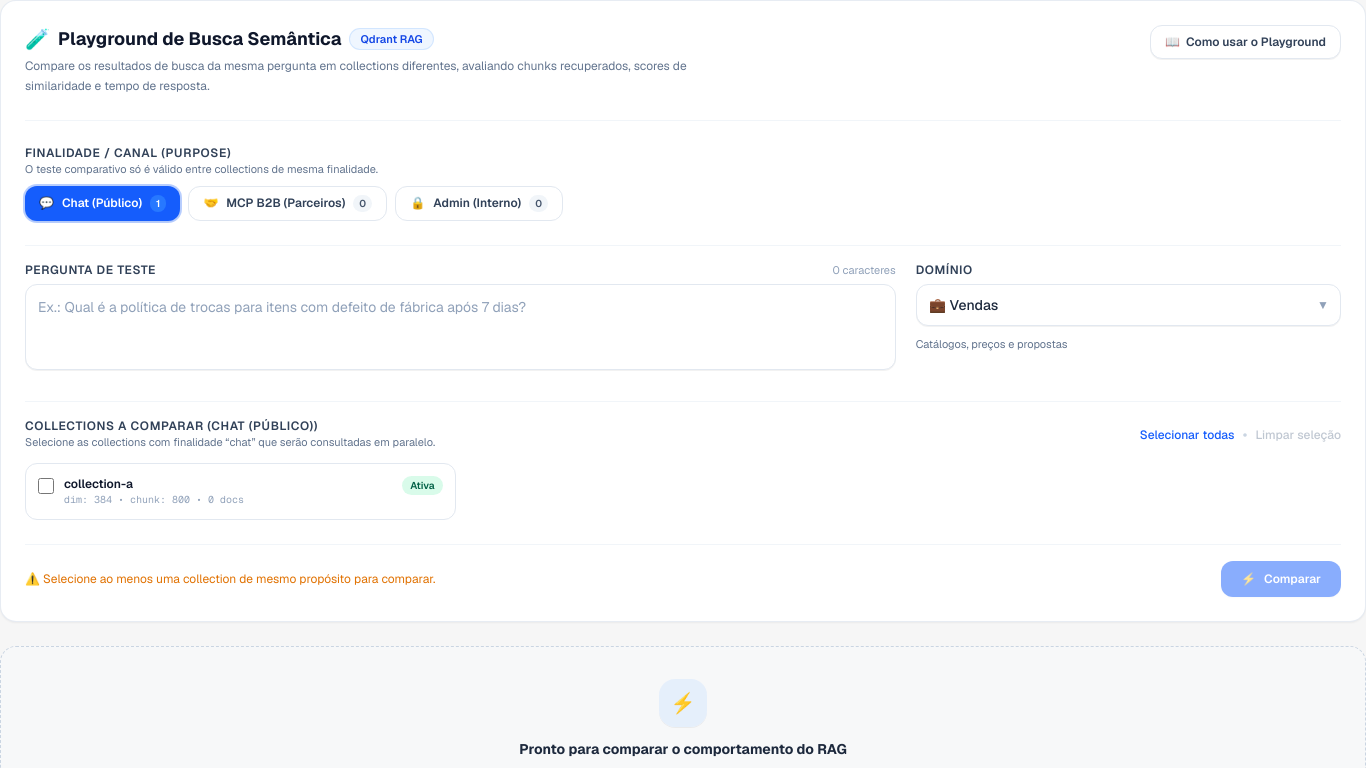
Test: PlaygroundPanel › permite limpar os resultados após uma busca
Type "teste limpeza" into the text box labelled "Pergunta de teste" at (460, 327), box [25,284,896,370]
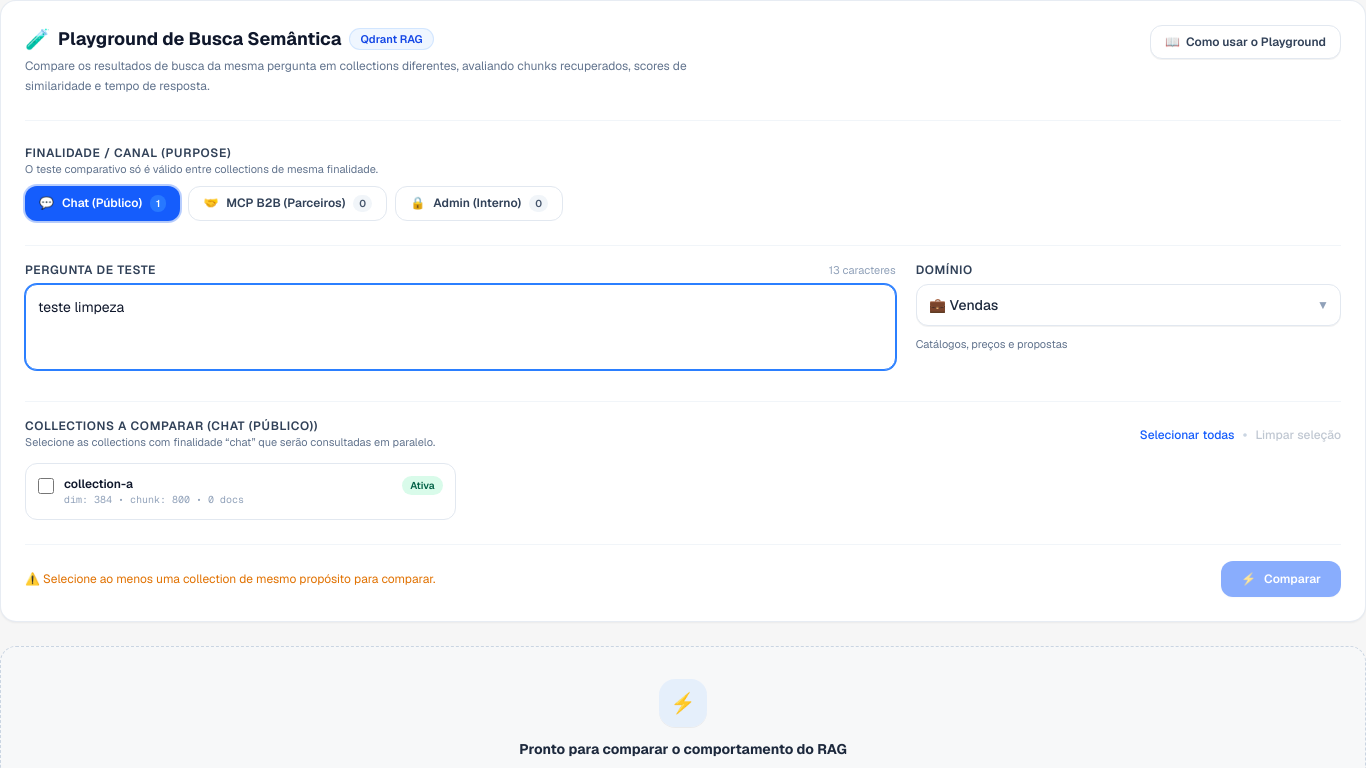
Click the checkbox labelled "collection-a" at (46, 486), box [38,478,54,494]
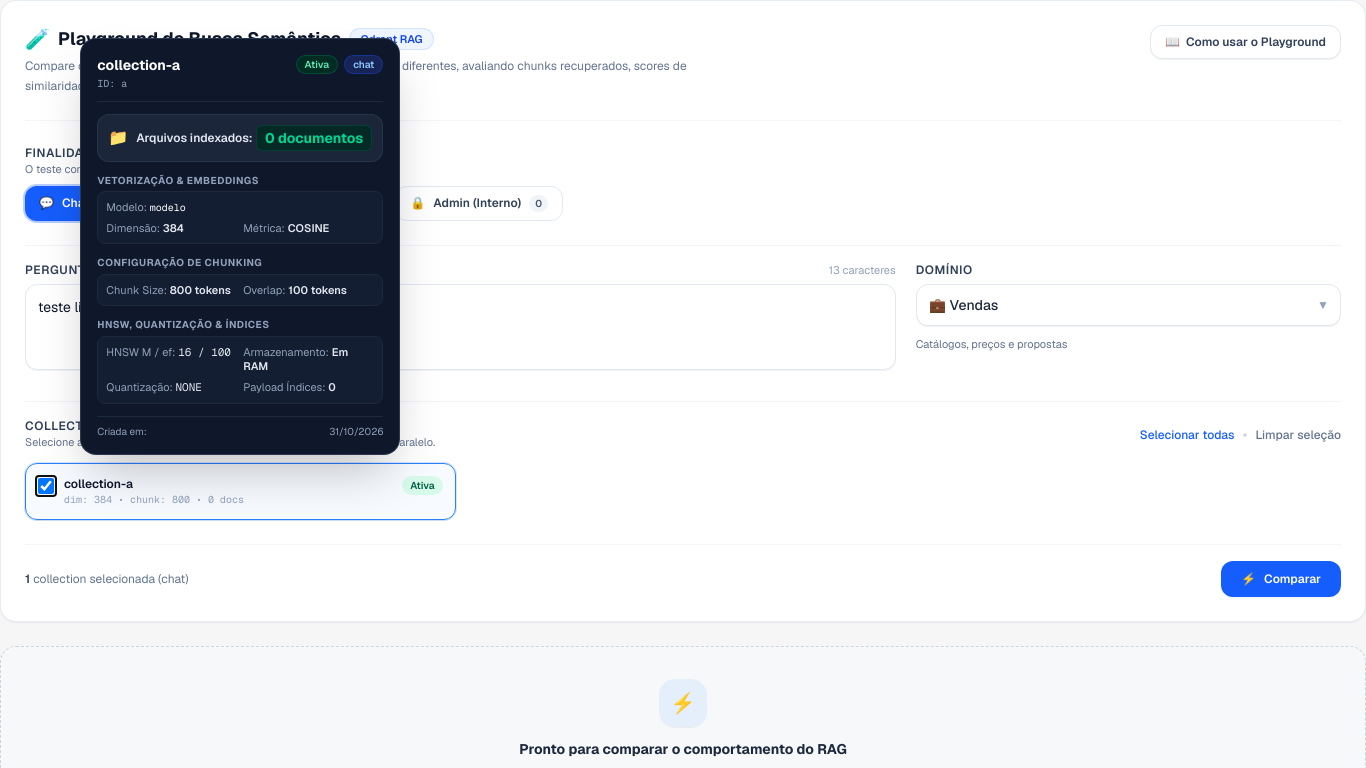
Click the button "⚡ Comparar" at (1281, 579), box [1221,561,1341,597]
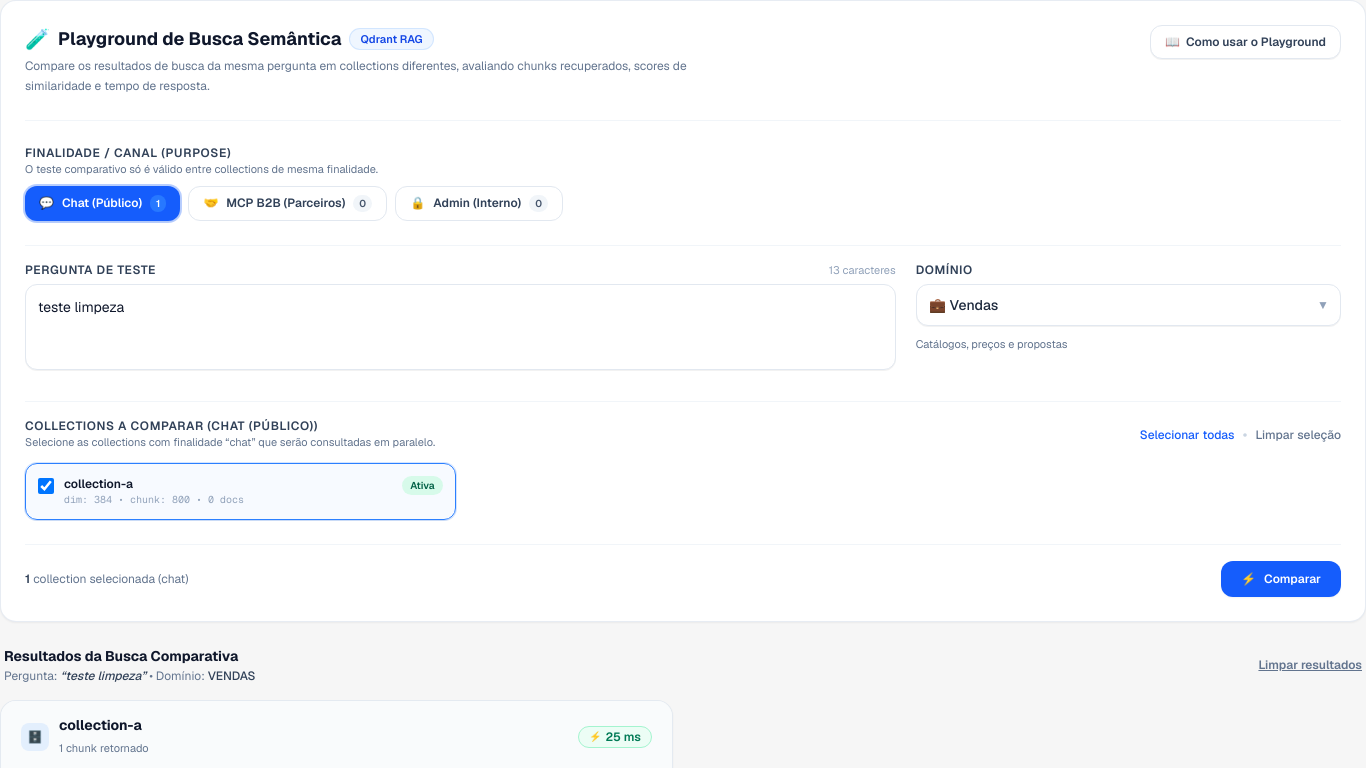
Note: Clica em Limpar resultados
Click the button "Limpar resultados" at (1310, 665), box [1258,657,1362,673]
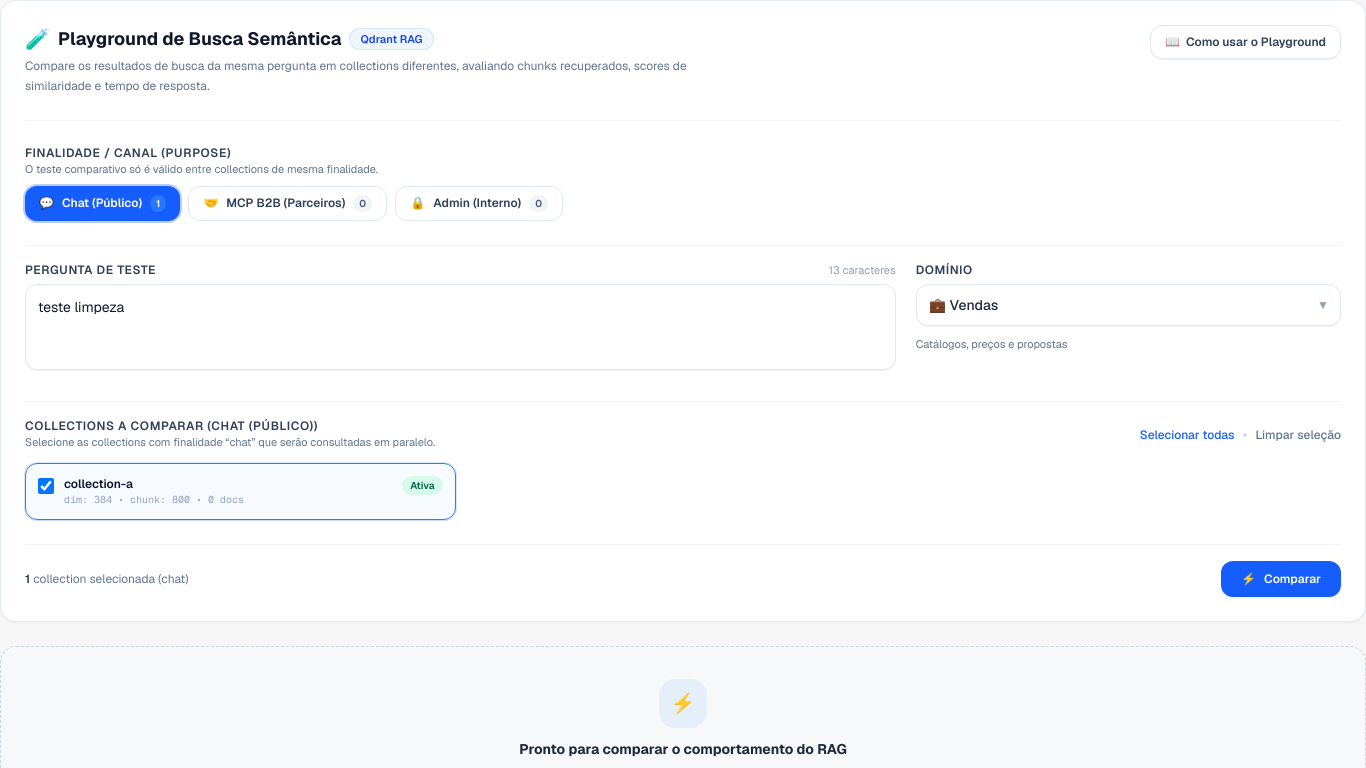
Expected: the heading "Pronto para comparar o comportamento do RAG" is shown, [519,740,847,758]
